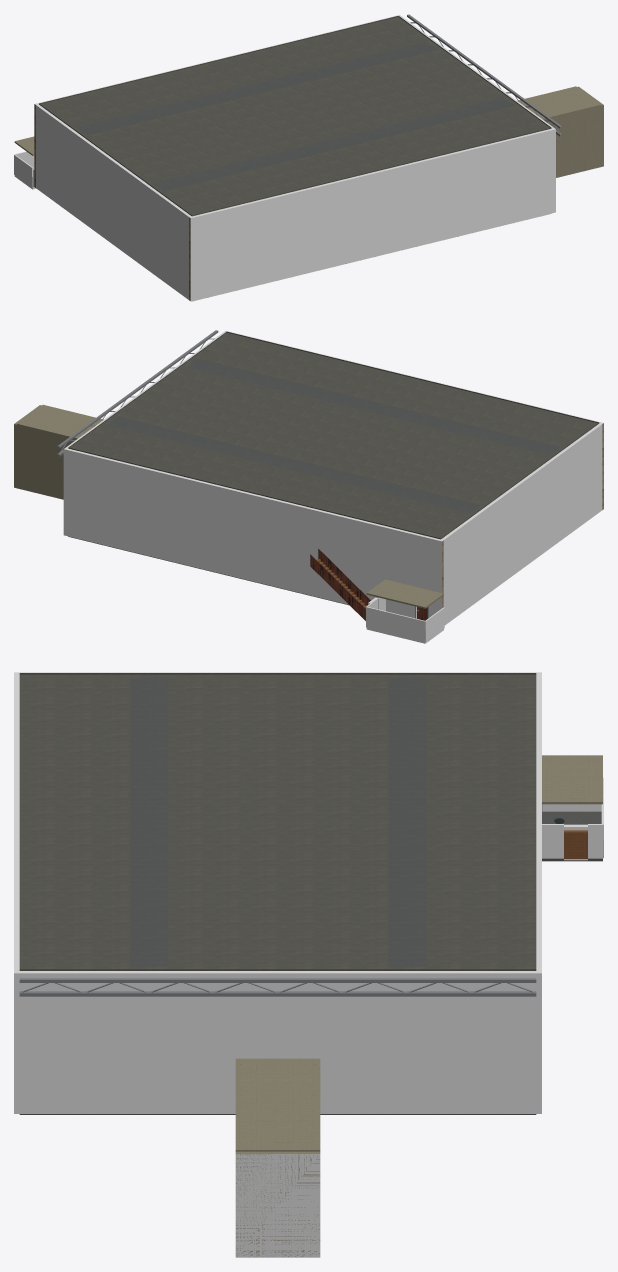
The picture shows the model from 3 angles, top to bottom: view 1: azimuth 30°, elevation 25°; view 2: azimuth 150°, elevation 25°; view 3: azimuth 270°, elevation 25°; orthographic projection. The views are drawn at different scales.
Parts seen in each view (by area): view 1: S_corrugated, COL, S_glass_dark, S_concrete_wall, S_steel_dark; view 2: S_corrugated, COL, S_glass_dark, S_concrete_wall, S_painted_metal, S_steel_dark; view 3: S_corrugated, COL, S_glass_dark, S_concrete_wall, S_steel_dark, S_concrete_floor.
Boxes of the visible parts, bbox=[...] form: S_corrugated: bbox=[39, 16, 551, 216]; COL: bbox=[14, 15, 555, 301]; S_glass_dark: bbox=[77, 42, 513, 190]; S_concrete_wall: bbox=[14, 86, 603, 177]; S_steel_dark: bbox=[407, 14, 561, 136]; S_corrugated: bbox=[68, 331, 599, 539]; COL: bbox=[63, 330, 603, 643]; S_glass_dark: bbox=[108, 359, 559, 513]; S_concrete_wall: bbox=[14, 404, 443, 608]; S_painted_metal: bbox=[310, 549, 370, 620]; S_steel_dark: bbox=[57, 330, 428, 618]; S_corrugated: bbox=[19, 673, 536, 970]; COL: bbox=[14, 672, 603, 1257]; S_glass_dark: bbox=[130, 678, 425, 966]; S_concrete_wall: bbox=[235, 755, 602, 1257]; S_steel_dark: bbox=[19, 804, 542, 996]; S_concrete_floor: bbox=[19, 811, 602, 1114].
Size of what is drawn, in the model's own units: 50.86 by 11.5 by 31.96.
79 materials, 38 textured.
